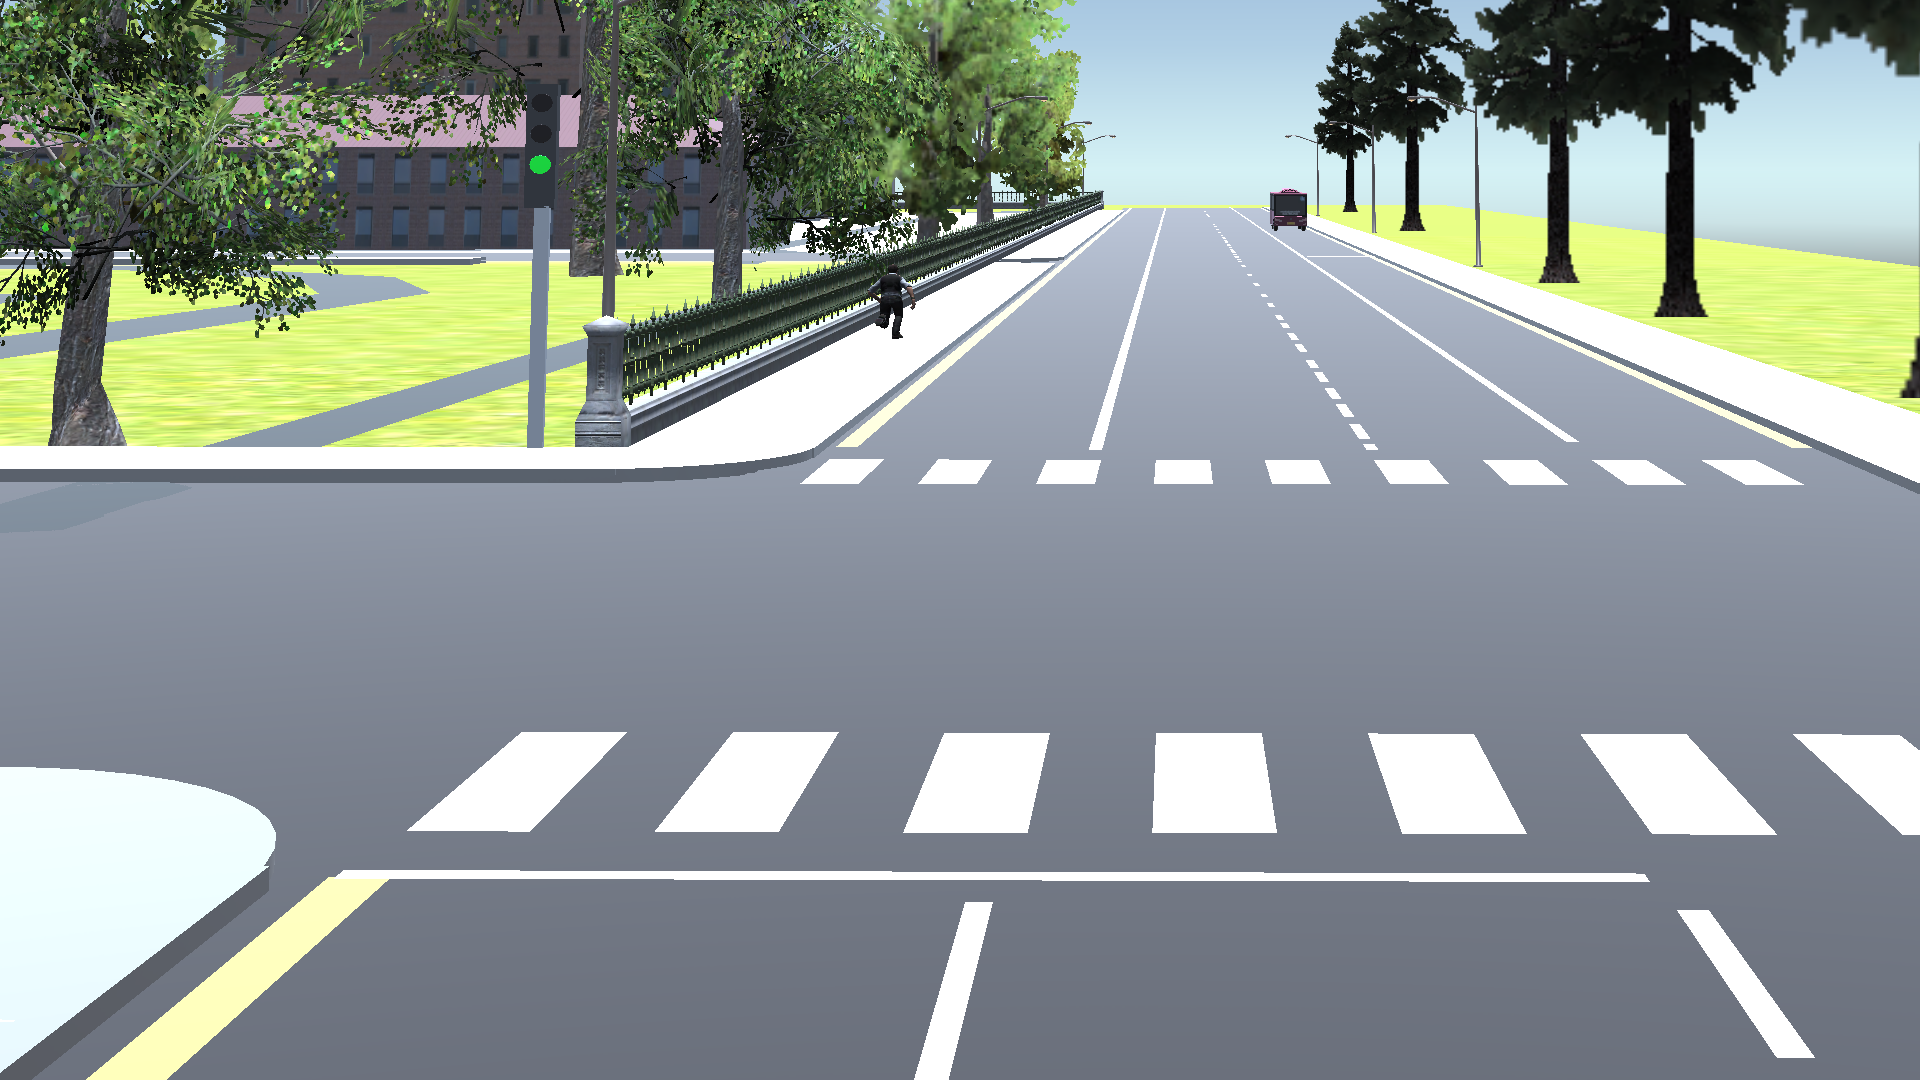pedestrian: (859, 265, 922, 349)
